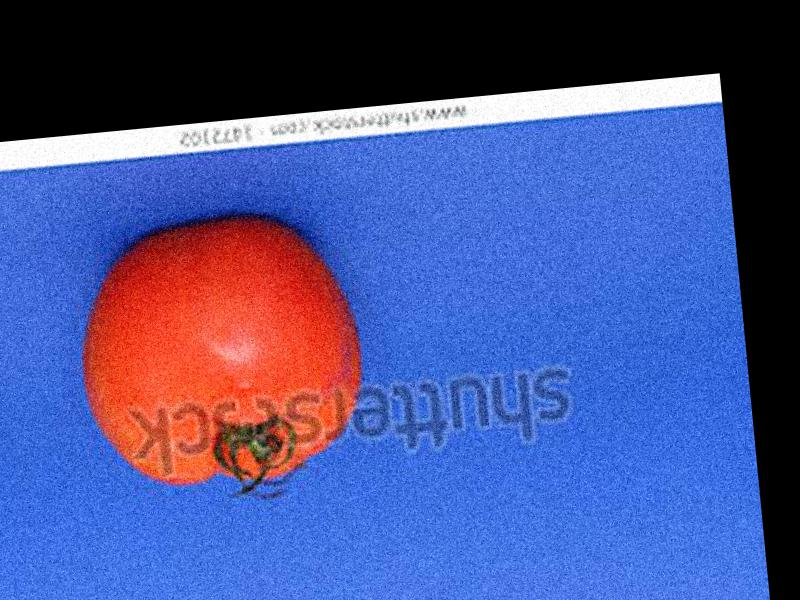Tomato: (66, 211, 367, 498)
